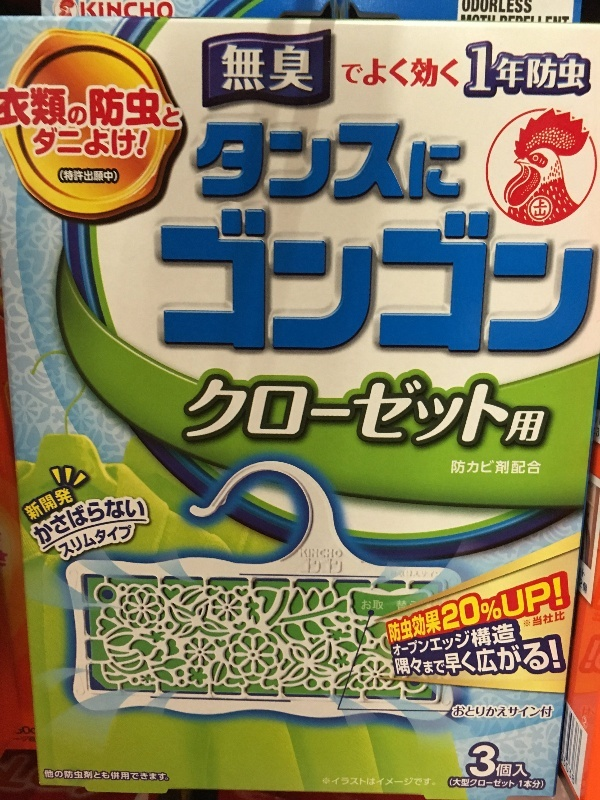text: (177, 208, 192, 364), (193, 208, 208, 364), (209, 208, 224, 364), (225, 208, 240, 364), (241, 208, 256, 364), (257, 208, 272, 364), (273, 208, 288, 364), (289, 208, 304, 364), (305, 208, 320, 364), (321, 208, 336, 364), (337, 208, 352, 364), (353, 208, 368, 364), (369, 208, 384, 364), (385, 208, 400, 364), (401, 208, 416, 364), (417, 208, 432, 364), (433, 208, 448, 364), (449, 208, 464, 364), (465, 208, 480, 364), (481, 208, 496, 364), (497, 208, 512, 364), (513, 208, 528, 364), (529, 208, 544, 364), (545, 208, 560, 364), (561, 208, 576, 364), (577, 208, 592, 364), (162, 208, 176, 364), (209, 118, 224, 205), (225, 118, 240, 205), (241, 118, 256, 205), (257, 118, 272, 205), (273, 118, 288, 205), (289, 118, 304, 205), (305, 118, 320, 205), (321, 118, 336, 205), (337, 118, 352, 205), (353, 118, 368, 205), (369, 118, 384, 205), (385, 118, 400, 205), (401, 118, 416, 205), (417, 118, 432, 205), (433, 118, 448, 205), (449, 118, 464, 205), (401, 569, 416, 649), (417, 569, 432, 649), (433, 569, 448, 649), (449, 569, 464, 649), (465, 569, 480, 649), (481, 569, 496, 649), (497, 569, 512, 649), (513, 569, 528, 649), (529, 569, 544, 649), (545, 569, 560, 649), (209, 375, 224, 452), (225, 375, 240, 452), (241, 375, 256, 452), (257, 375, 272, 452), (273, 375, 288, 452), (289, 375, 304, 452), (305, 375, 320, 452), (321, 375, 336, 452), (337, 375, 352, 452), (353, 375, 368, 452), (369, 375, 384, 452), (385, 375, 400, 452), (401, 375, 416, 452), (417, 375, 432, 452), (433, 375, 448, 452), (449, 375, 464, 452), (465, 375, 480, 452), (481, 375, 496, 452), (497, 375, 512, 452), (513, 375, 528, 452), (529, 375, 544, 452), (194, 375, 208, 452), (388, 569, 400, 649), (198, 118, 208, 205), (545, 375, 556, 452), (33, 492, 48, 547), (49, 492, 64, 547), (65, 492, 80, 547), (81, 492, 96, 547), (97, 492, 112, 547), (113, 492, 128, 547), (129, 492, 144, 547), (481, 43, 496, 97), (497, 43, 512, 97), (513, 43, 528, 97), (529, 43, 544, 97), (545, 43, 560, 97), (561, 43, 576, 97), (225, 42, 240, 95), (241, 42, 256, 95), (257, 42, 272, 95), (273, 42, 288, 95), (289, 42, 304, 95), (593, 208, 598, 364), (1, 85, 16, 131), (17, 85, 32, 131), (33, 85, 48, 131), (49, 85, 64, 131), (65, 85, 80, 131), (81, 85, 96, 131), (97, 85, 112, 131), (113, 85, 128, 131), (129, 85, 144, 131), (145, 85, 160, 131), (161, 85, 176, 131), (65, 518, 80, 559), (81, 518, 96, 559), (97, 518, 112, 559), (113, 518, 128, 559), (401, 639, 416, 680), (417, 639, 432, 680), (433, 639, 448, 680), (449, 639, 464, 680), (465, 639, 480, 680), (481, 639, 496, 680), (497, 639, 512, 680), (513, 639, 528, 680), (529, 639, 544, 680), (545, 639, 560, 680), (577, 43, 588, 97), (33, 485, 48, 524), (49, 485, 64, 524), (401, 621, 416, 660), (417, 621, 432, 660), (433, 621, 448, 660), (449, 621, 464, 660), (465, 621, 480, 660), (481, 621, 496, 660), (497, 621, 512, 660), (33, 125, 48, 161), (49, 125, 64, 161), (65, 125, 80, 161), (81, 125, 96, 161), (97, 125, 112, 161), (113, 125, 128, 161), (129, 125, 144, 161), (481, 745, 497, 778), (561, 751, 576, 786), (353, 56, 368, 90), (369, 56, 384, 90), (385, 56, 400, 90), (401, 56, 416, 90), (417, 56, 432, 90), (433, 56, 448, 90), (471, 43, 480, 97), (305, 42, 313, 95), (22, 485, 32, 524), (341, 56, 352, 90), (449, 56, 460, 90), (65, 485, 74, 524), (392, 621, 400, 660), (57, 518, 64, 559), (393, 639, 400, 680), (177, 85, 183, 131), (81, 1, 96, 19), (97, 1, 112, 19), (113, 1, 128, 19), (129, 1, 144, 19), (145, 1, 160, 19), (65, 167, 80, 185), (81, 167, 96, 185), (97, 167, 112, 185), (513, 762, 529, 778), (465, 459, 480, 476), (481, 459, 496, 476), (497, 459, 512, 476), (513, 459, 528, 476), (545, 611, 560, 628), (321, 559, 336, 575), (561, 569, 564, 649), (497, 762, 512, 778), (473, 745, 480, 778), (465, 1, 480, 16), (481, 1, 496, 16), (497, 1, 512, 16), (513, 1, 528, 16), (451, 459, 464, 476), (529, 459, 542, 476), (28, 492, 32, 547), (161, 1, 173, 19), (145, 125, 151, 161), (580, 578, 592, 596), (49, 768, 64, 782), (65, 768, 80, 782), (81, 768, 96, 782), (97, 768, 112, 782), (113, 768, 128, 782), (129, 768, 144, 782), (145, 768, 160, 782), (465, 705, 480, 719), (481, 705, 496, 719), (497, 705, 512, 719), (513, 705, 528, 719), (529, 705, 544, 719), (307, 559, 320, 575), (532, 611, 544, 628), (305, 547, 320, 560), (321, 547, 336, 560), (369, 599, 384, 612), (465, 778, 480, 790), (481, 778, 496, 790), (497, 778, 512, 790), (513, 778, 528, 790), (529, 778, 544, 790), (534, 200, 544, 217), (450, 778, 464, 790), (337, 776, 352, 787), (353, 776, 368, 787), (369, 776, 384, 787), (385, 776, 400, 787), (401, 776, 416, 787), (417, 776, 432, 787), (465, 14, 480, 25), (481, 14, 496, 25), (497, 14, 512, 25), (513, 14, 528, 25), (529, 14, 544, 25), (545, 14, 560, 25), (513, 621, 517, 660), (454, 705, 464, 719), (17, 727, 32, 736), (582, 567, 592, 580), (129, 518, 132, 559), (161, 768, 169, 782), (545, 705, 553, 719), (222, 42, 224, 95), (561, 14, 570, 25), (337, 559, 343, 575), (59, 167, 64, 185), (113, 167, 118, 185), (584, 717, 592, 728), (362, 599, 368, 612), (561, 611, 565, 628), (401, 600, 407, 611), (337, 547, 342, 560), (529, 1, 533, 16), (44, 768, 48, 782), (145, 492, 146, 547), (300, 547, 304, 560), (545, 200, 548, 217), (561, 639, 562, 680), (597, 426, 600, 439), (333, 776, 336, 787), (433, 776, 436, 787), (397, 600, 400, 611), (461, 14, 464, 25), (462, 1, 464, 16), (33, 727, 36, 736)
